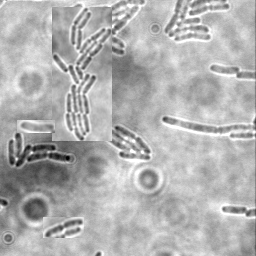Dividing: (161, 114, 255, 133), (43, 217, 84, 238), (221, 204, 248, 215)
Microcolony: (52, 7, 112, 141), (162, 1, 231, 44), (8, 130, 72, 167), (106, 124, 153, 160), (17, 120, 55, 133), (208, 63, 240, 74)
